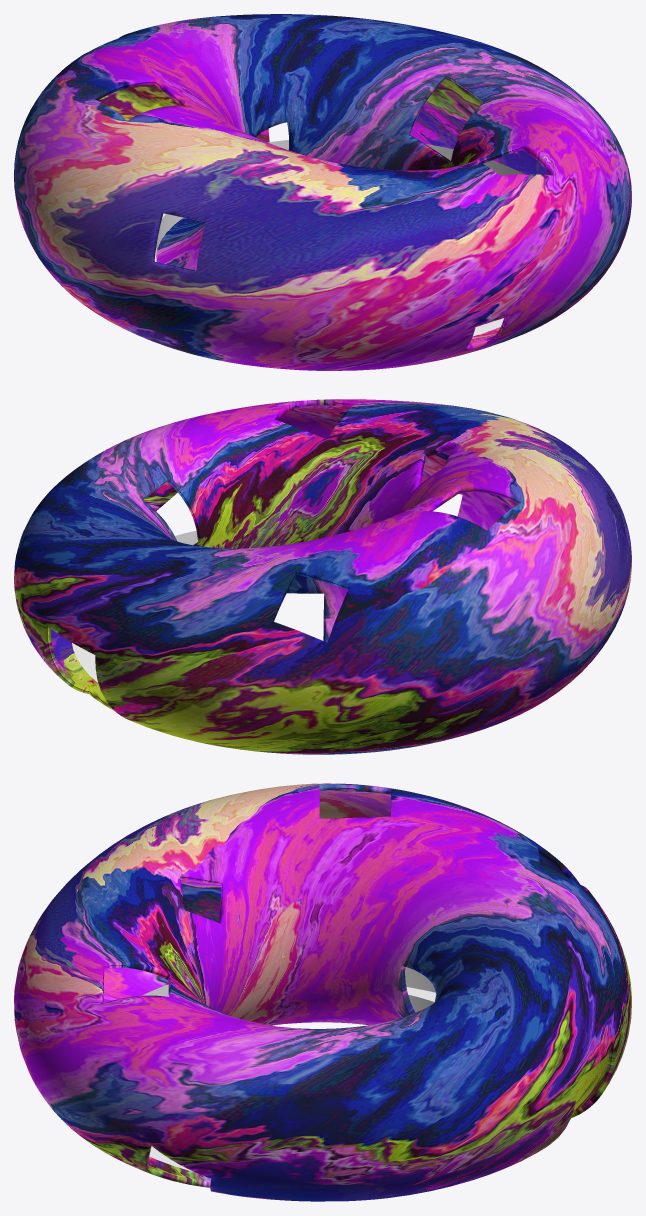
The picture shows the model from 3 angles, top to bottom: view 1: azimuth 30°, elevation 25°; view 2: azimuth 150°, elevation 25°; view 3: azimuth 270°, elevation 25°; orthographic projection. The views are drawn at different scales.
Visible parts, largest first — view 1: Solids, Ramps; view 2: Solids; view 3: Solids, Ramps.
Boxes of the visible parts, bbox=[...] form: Solids: bbox=[14, 14, 631, 370]; Ramps: bbox=[156, 140, 523, 253]; Solids: bbox=[14, 399, 631, 754]; Solids: bbox=[14, 783, 631, 1201]; Ramps: bbox=[141, 967, 435, 1012].
Size of the model in its own units: 43.6 by 16.35 by 42.28.
2 materials, 2 textured.
